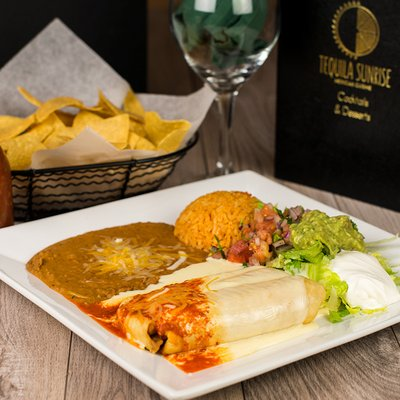soup: (171, 190, 278, 267)
